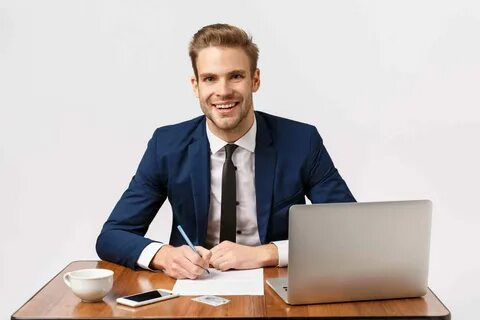awake: (95, 22, 358, 282)
